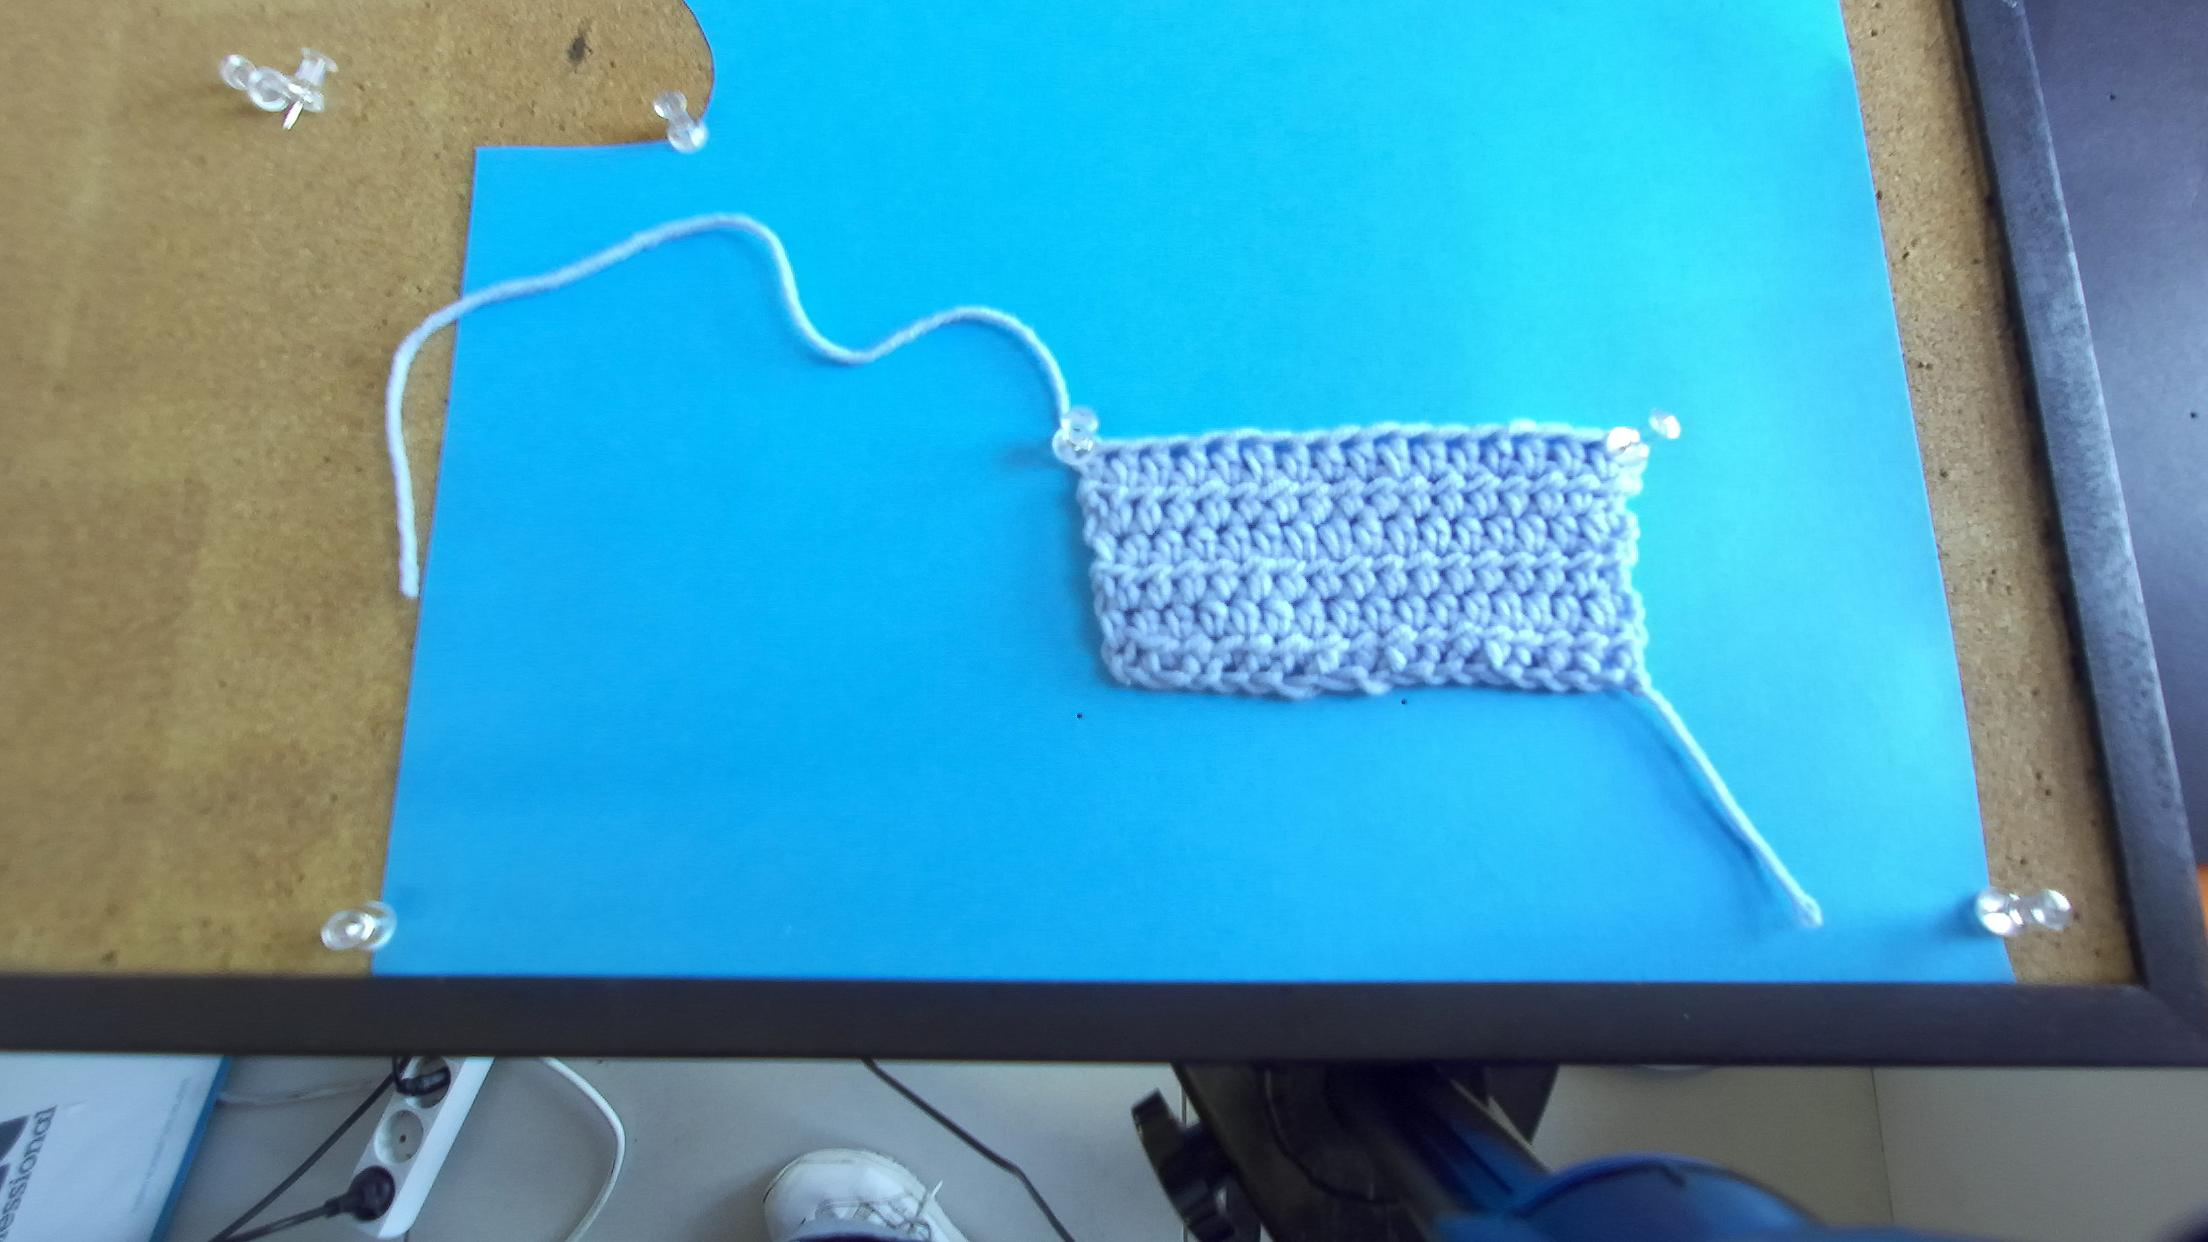hole: (1170, 442, 1189, 461), (1237, 437, 1257, 455), (1444, 434, 1465, 451), (1373, 434, 1395, 449), (1338, 437, 1357, 454), (1206, 440, 1222, 459), (1103, 448, 1120, 465), (1274, 439, 1289, 458), (1478, 432, 1497, 447), (1307, 440, 1324, 456), (1137, 445, 1152, 463), (1407, 434, 1425, 449), (1509, 432, 1528, 445), (1541, 436, 1564, 446), (1583, 441, 1601, 450)
swatch: (1051, 420, 1671, 707)
